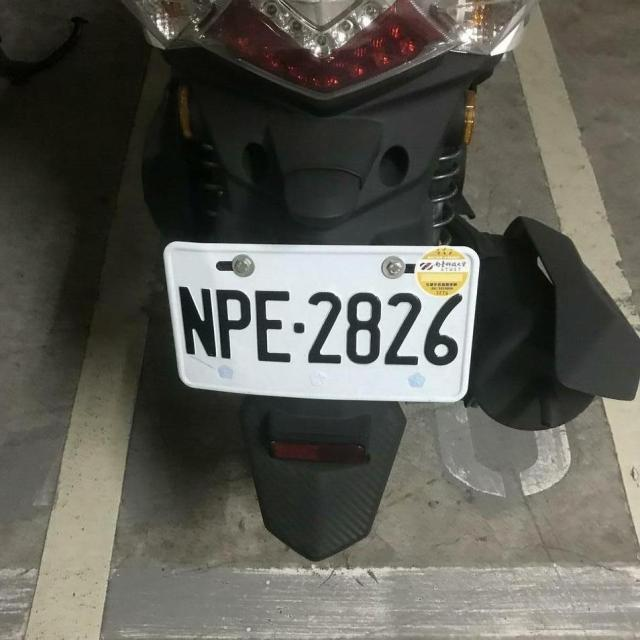W: (156, 239, 481, 402)
